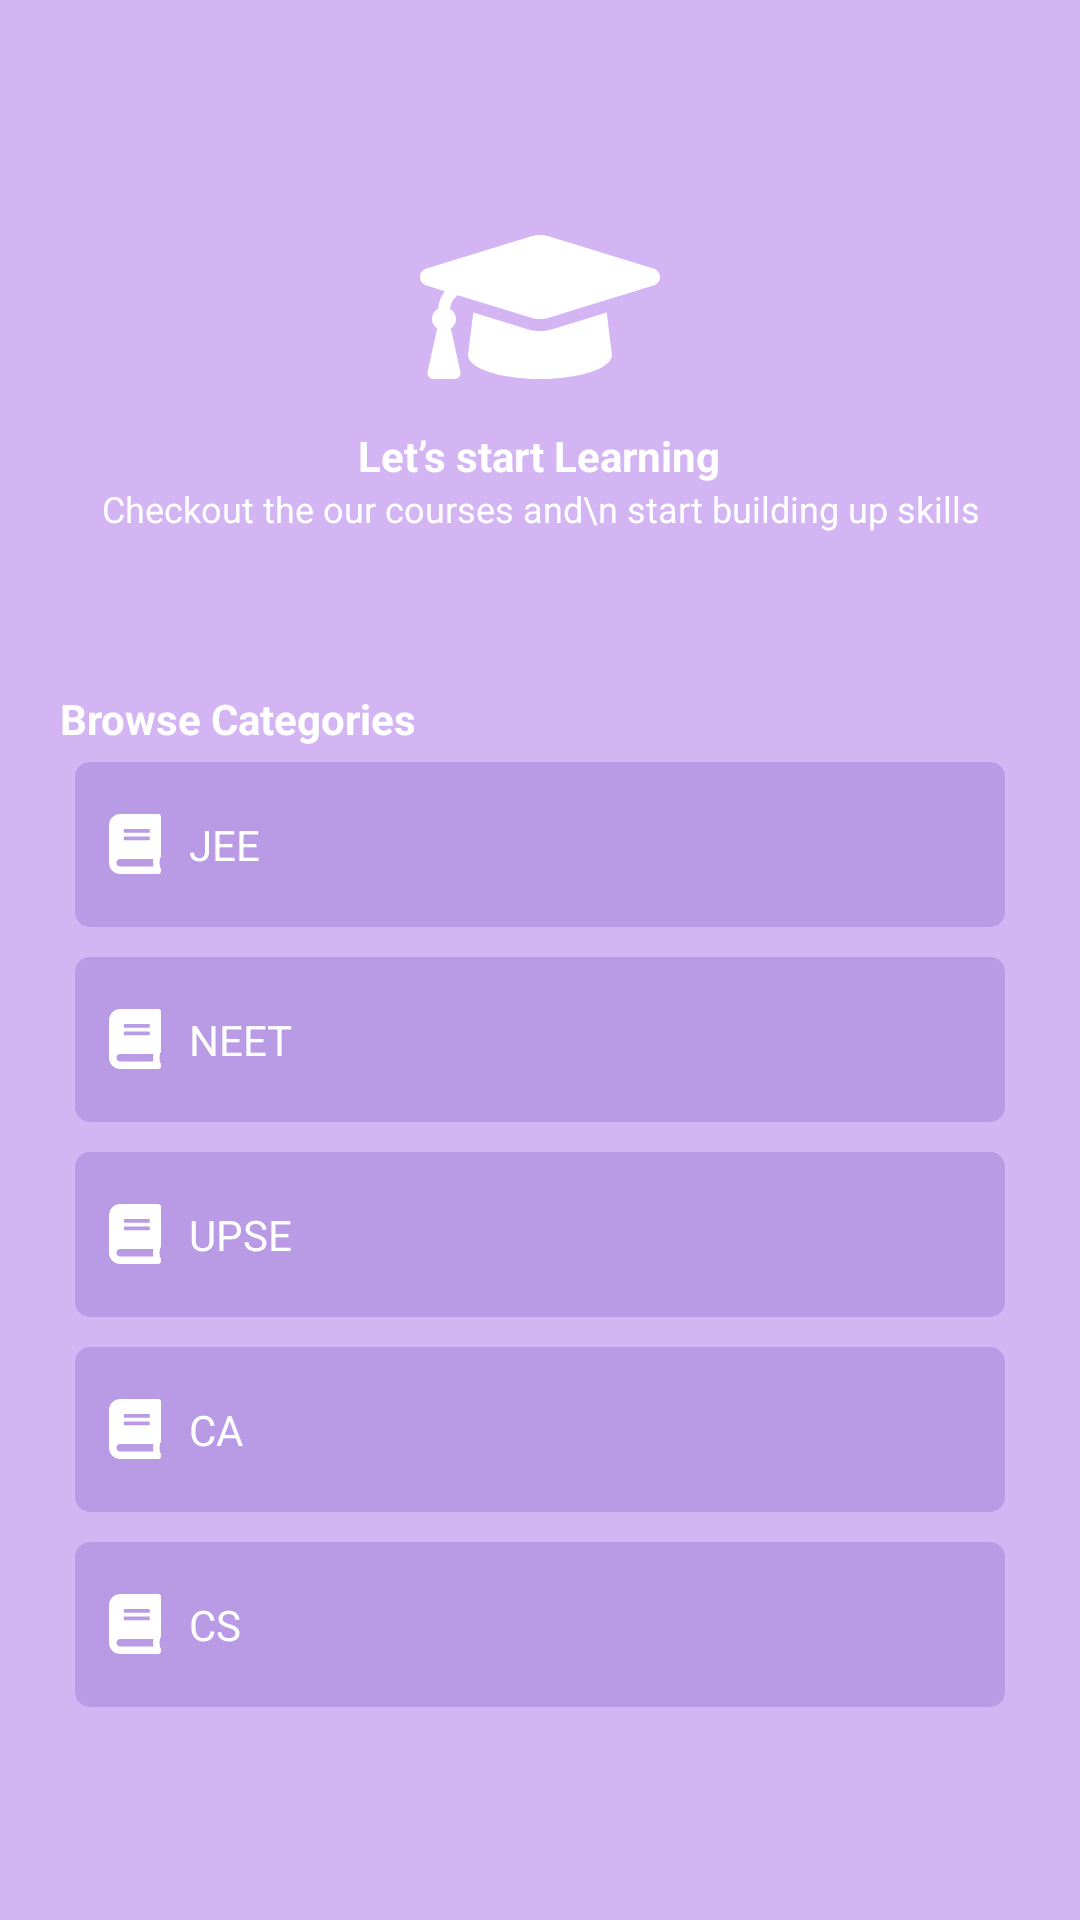

Icons on this 1080x1920 Android screen, each with the point to tap as (x=x, y=y):
course: (x=135, y=844), (x=135, y=1039), (x=135, y=1234), (x=135, y=1429), (x=135, y=1624)
hat: (x=540, y=307)
